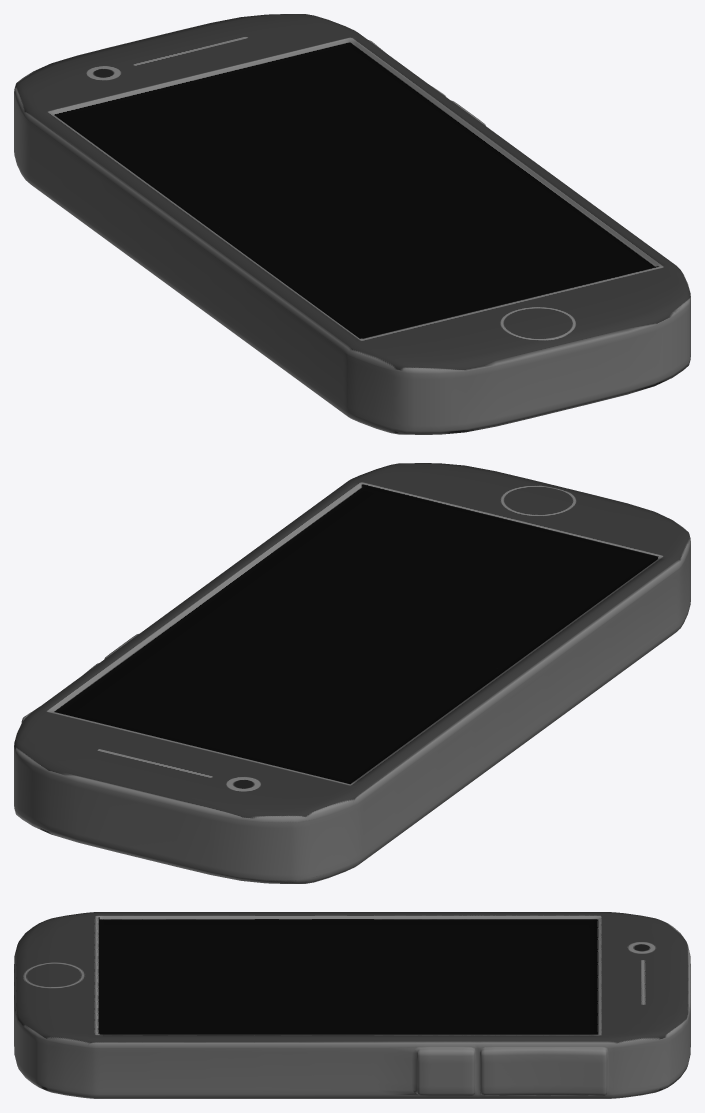
File: PhoneBoof.fbx
3 renders of one model, top to bottom at view 1: azimuth 30°, elevation 25°; view 2: azimuth 150°, elevation 25°; view 3: azimuth 270°, elevation 25°, orthographic. The views are drawn at different scales.
Visible parts, largest first — view 1: Cube; view 2: Cube; view 3: Cube.
Boxes of the visible parts, x1=… form: Cube: x1=14, y1=14, x2=690, y2=434; Cube: x1=14, y1=463, x2=690, y2=883; Cube: x1=14, y1=912, x2=690, y2=1098.
Size of the model in its own units: 421 by 87.85 by 893.
1 material, 1 textured.
